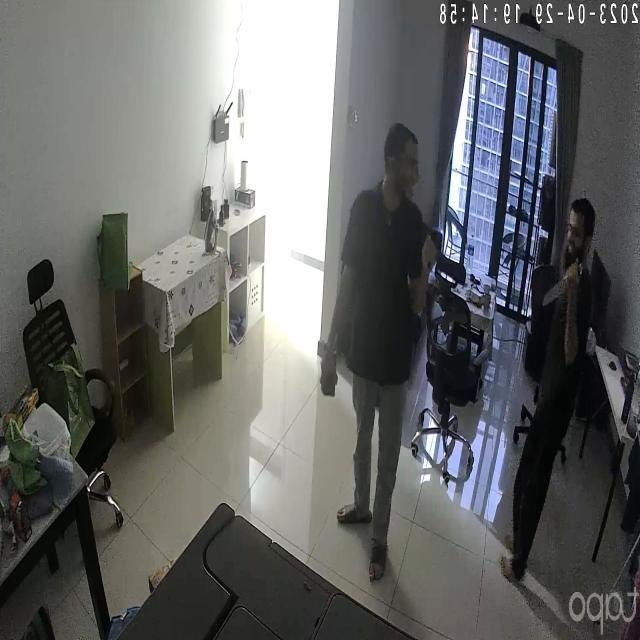Knife: (537, 251, 596, 315), (416, 229, 441, 309)
